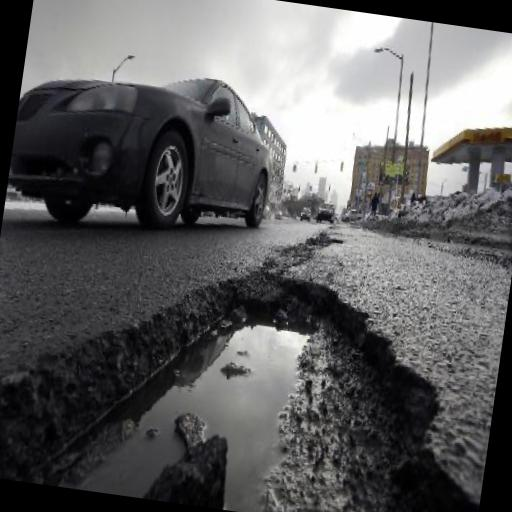pothole: (0, 225, 509, 512)
